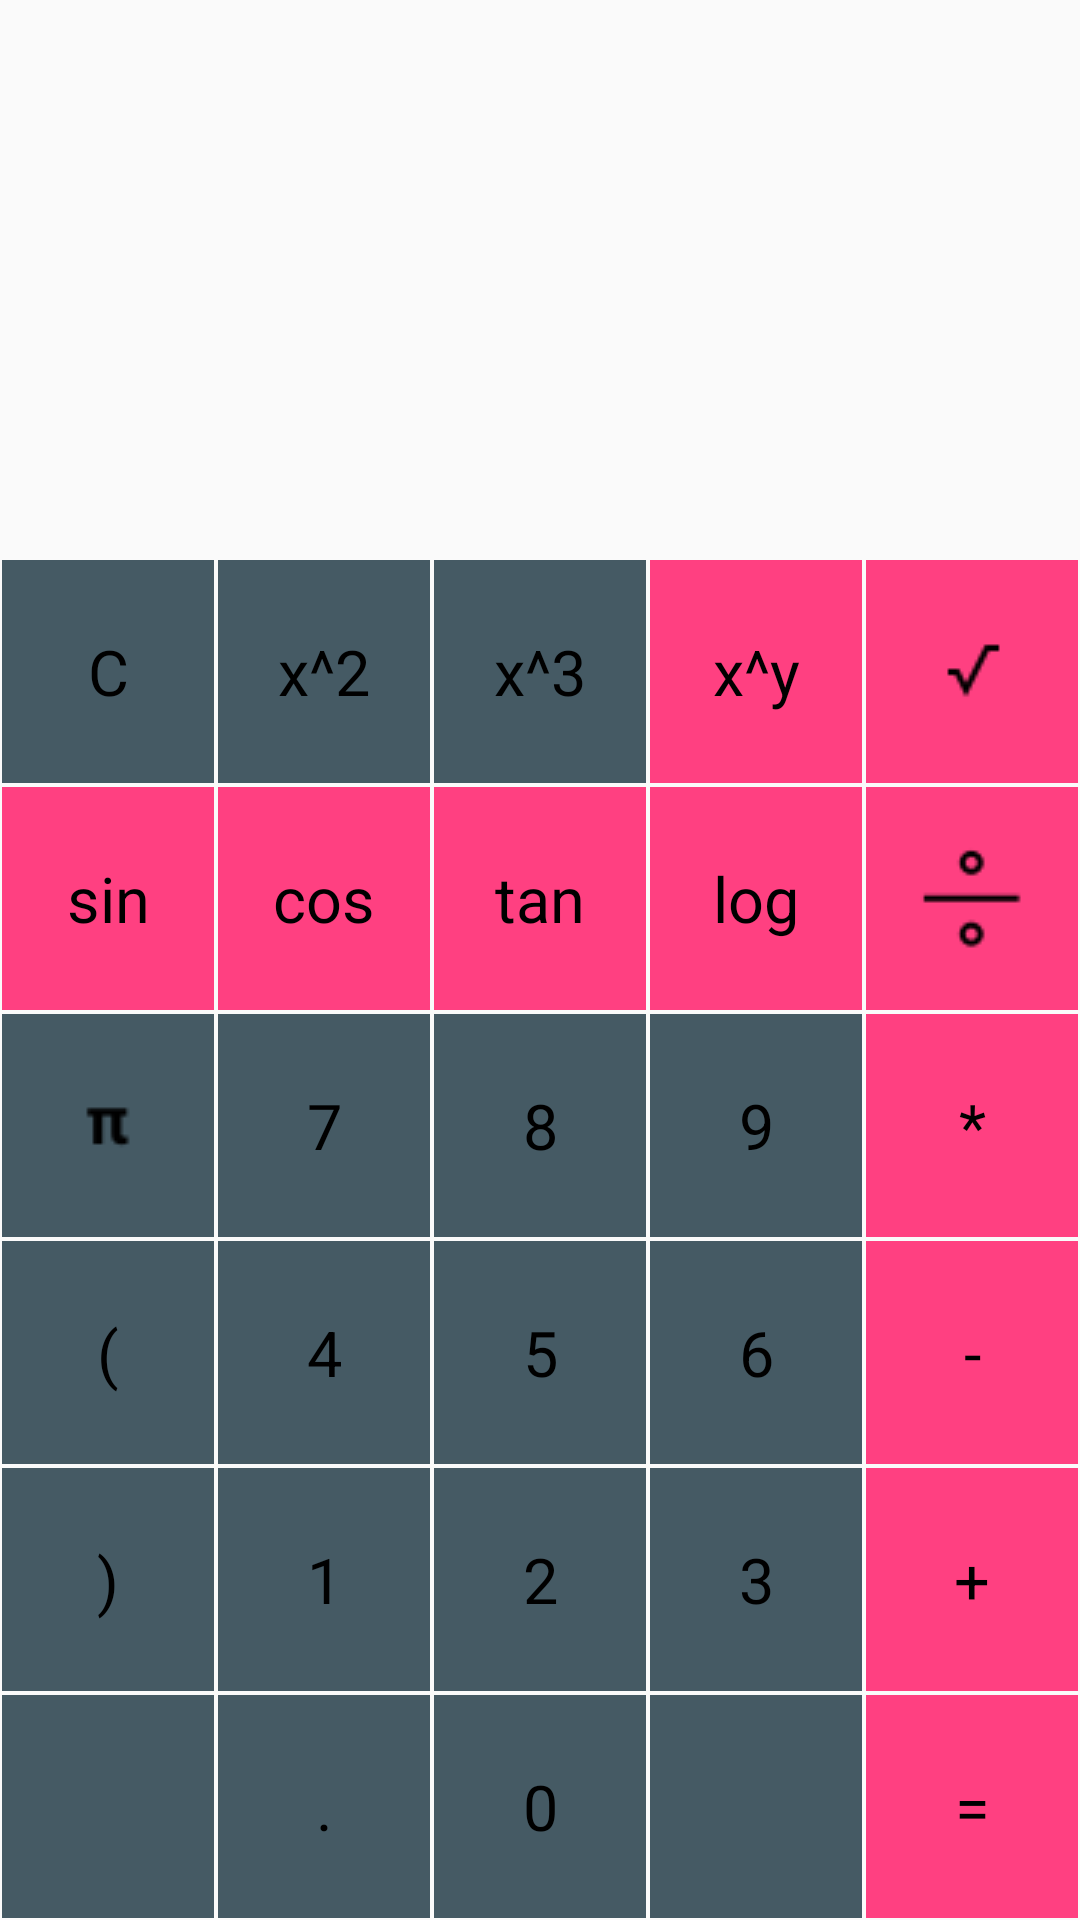

Locate icon controls on the screen. Image size 1080 × 1920, boxes as (x1, y1, x2, y2).
divide: (923, 850, 1021, 948)
square root function: (866, 560, 1078, 783)
